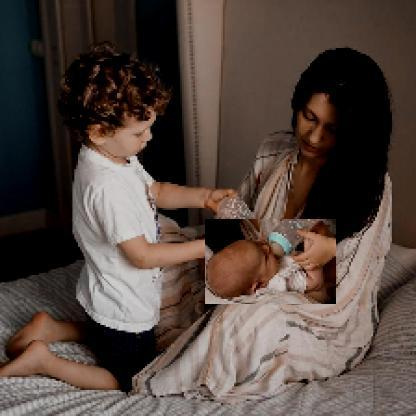child: (1, 42, 252, 391), (206, 220, 338, 306)
